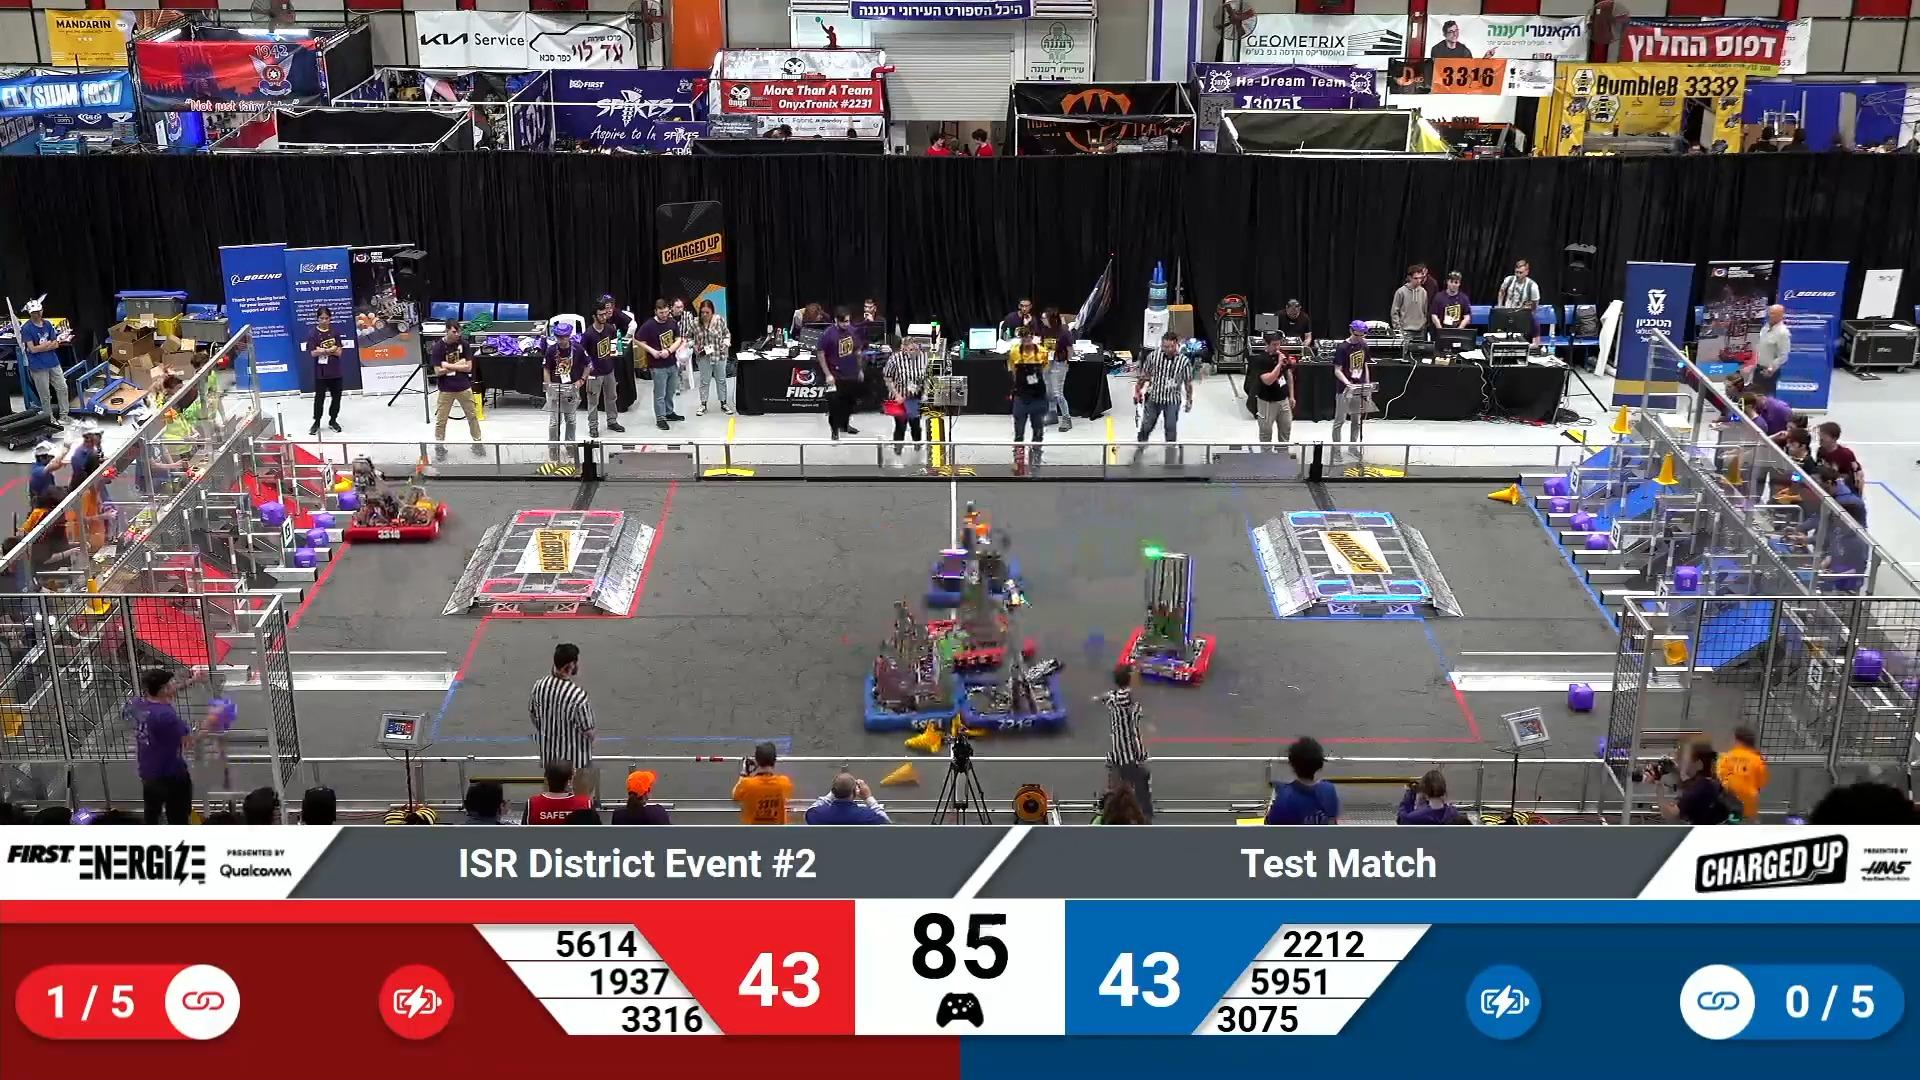robot: (963, 578, 1068, 733), (928, 521, 1035, 670), (865, 593, 972, 735), (1118, 545, 1218, 683), (927, 500, 1026, 611), (340, 452, 443, 542)
